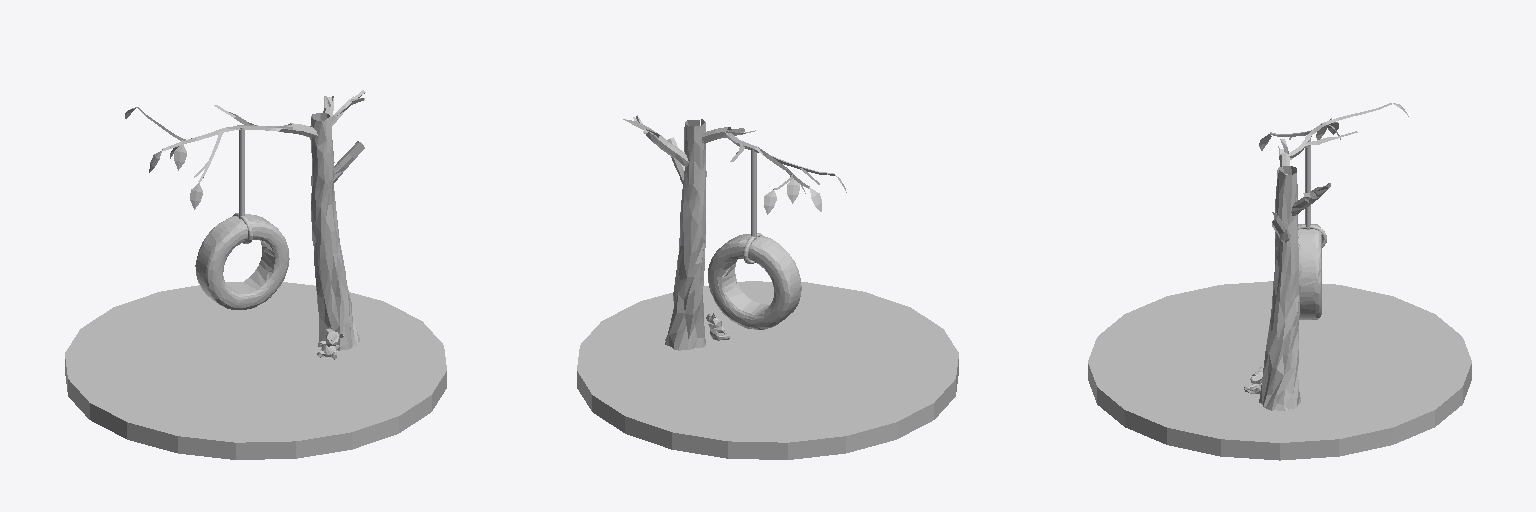
File: 1-3 tire swing.obj
The picture shows the model from 3 angles: view 1: azimuth 30°, elevation 25°; view 2: azimuth 150°, elevation 25°; view 3: azimuth 270°, elevation 25°; orthographic projection.
Parts seen in each view (by area): view 1: polySurface1290 tire_swing:polySurface1, polySurface1901, tire_swing:polySurface1 polySurface1596, polySurface1900, tire_swing:polySurface1 polySurface1897; view 2: polySurface1290 tire_swing:polySurface1, polySurface1901, tire_swing:polySurface1 polySurface1596, polySurface1900; view 3: polySurface1290 tire_swing:polySurface1, polySurface1901, tire_swing:polySurface1 polySurface1596.
Part boxes in pixels (x1,y1,x2,y2): polySurface1290 tire_swing:polySurface1: (65, 282, 446, 459); polySurface1901: (138, 90, 365, 350); tire_swing:polySurface1 polySurface1596: (195, 214, 289, 309); polySurface1900: (125, 107, 202, 209); tire_swing:polySurface1 polySurface1897: (239, 128, 244, 218); polySurface1290 tire_swing:polySurface1: (577, 281, 958, 459); polySurface1901: (623, 115, 834, 350); tire_swing:polySurface1 polySurface1596: (708, 234, 801, 329); polySurface1900: (764, 175, 846, 214); polySurface1290 tire_swing:polySurface1: (1088, 281, 1471, 460); polySurface1901: (1259, 103, 1391, 410); tire_swing:polySurface1 polySurface1596: (1298, 224, 1321, 319).
Bounding box in the file's own units: 640 × 453 × 640.